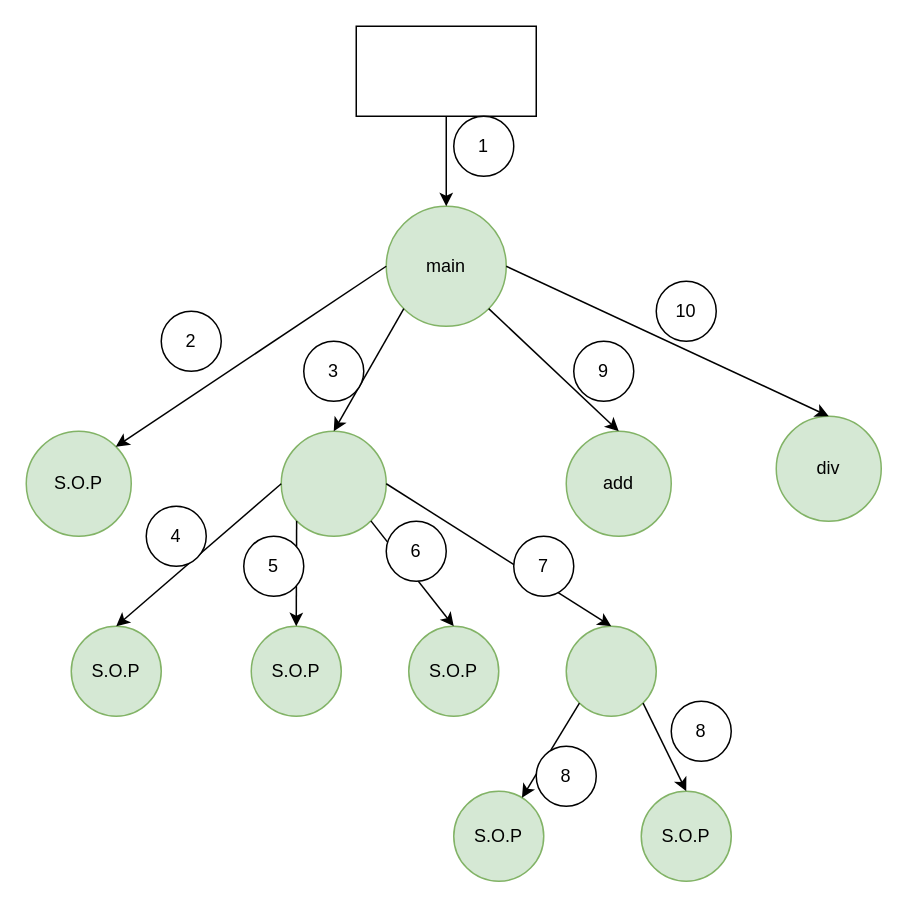
This 908x908 diagram has some shape labels left out. The box of each missing label's shape, as (x1, y1, x2, y2) in pixels:
java Test: (355, 25, 536, 116)
m1: (280, 430, 386, 536)
m2: (565, 625, 656, 716)
